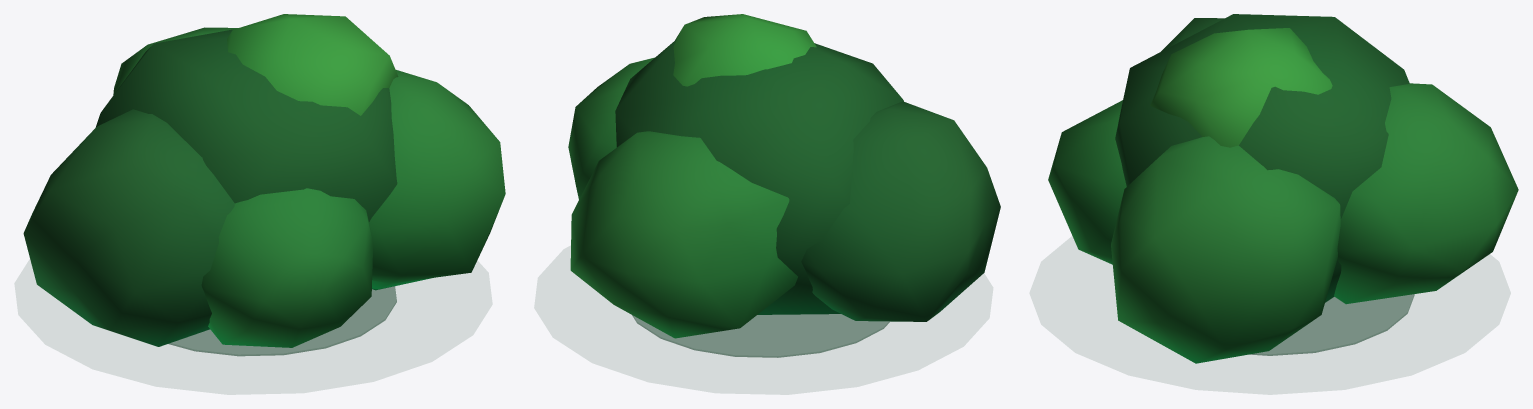
The model's file is bush_dark.glb.
The picture shows the model from 3 angles, left to right: view 1: azimuth 30°, elevation 25°; view 2: azimuth 150°, elevation 25°; view 3: azimuth 270°, elevation 25°; orthographic projection. The views are drawn at different scales.
Parts seen in each view (by area): view 1: bush_dark; view 2: bush_dark; view 3: bush_dark.
Boxes of the visible parts, x1,y1,x2,y2 form: bush_dark: [23, 14, 505, 356]; bush_dark: [568, 14, 1000, 357]; bush_dark: [1048, 14, 1518, 363].
Bounding box in the file's own units: 1.28 × 0.8023 × 1.26.
